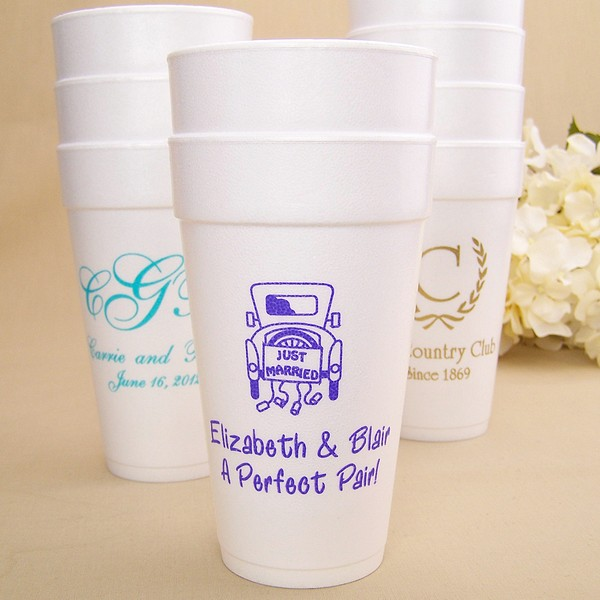Nonrec_Plastic: (160, 48, 433, 589), (330, 2, 552, 447), (42, 12, 233, 478)
